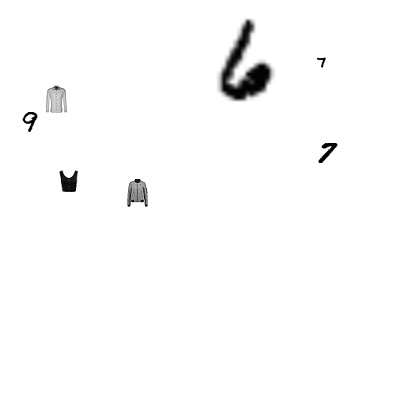6: (186, 12, 298, 124)
7: (313, 136, 341, 164), (315, 54, 329, 68)
9: (16, 106, 44, 134)
Coat: (123, 179, 151, 207)
Shirt: (42, 85, 70, 113)
T-shirt/top: (57, 170, 79, 192)
